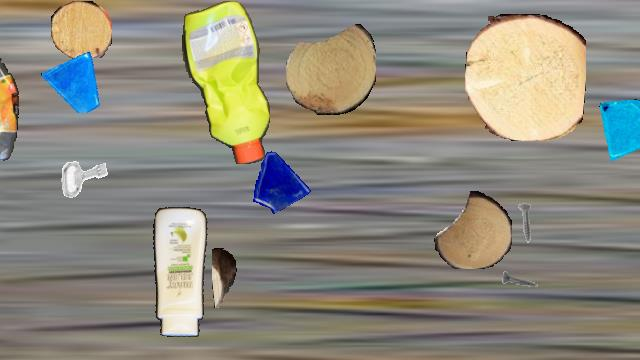glass: (247, 148, 313, 214), (41, 50, 103, 112), (596, 99, 640, 163)
metal: (53, 148, 113, 208), (501, 258, 543, 300), (505, 202, 547, 244), (0, 195, 3, 251)
plastic: (181, 1, 271, 163), (146, 207, 210, 337), (0, 1, 21, 163)
wood: (465, 14, 585, 140), (286, 23, 376, 115), (434, 191, 512, 269), (51, 1, 111, 59), (212, 248, 236, 308)
